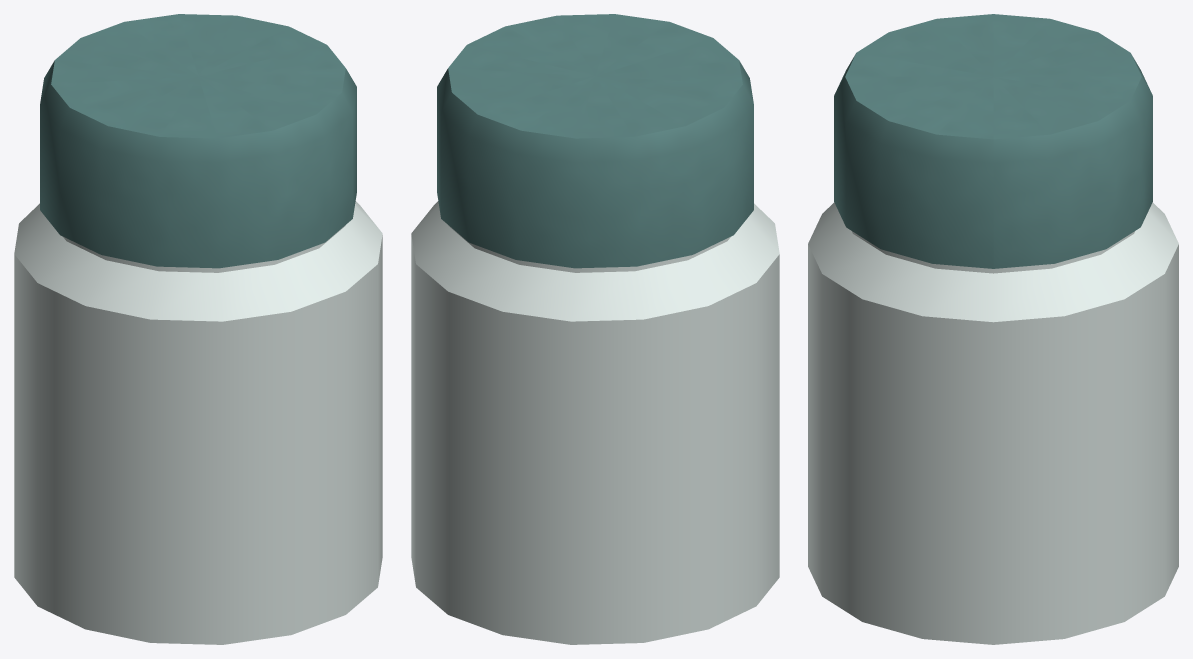
File: SM_Jar_S_Honey.fbx
3 views of the same model, side by side, from view 1: azimuth 30°, elevation 25°; view 2: azimuth 150°, elevation 25°; view 3: azimuth 270°, elevation 25° (orthographic).
Parts seen in each view (by area): view 1: SM_Jar_S_Honey; view 2: SM_Jar_S_Honey; view 3: SM_Jar_S_Honey.
Part boxes in pixels (x1=…): SM_Jar_S_Honey: x1=14, y1=14, x2=382, y2=644; SM_Jar_S_Honey: x1=411, y1=14, x2=779, y2=644; SM_Jar_S_Honey: x1=808, y1=14, x2=1178, y2=644.
Size of the model in its own units: 0.07 by 0.102 by 0.07.
3 materials, 3 textured.
